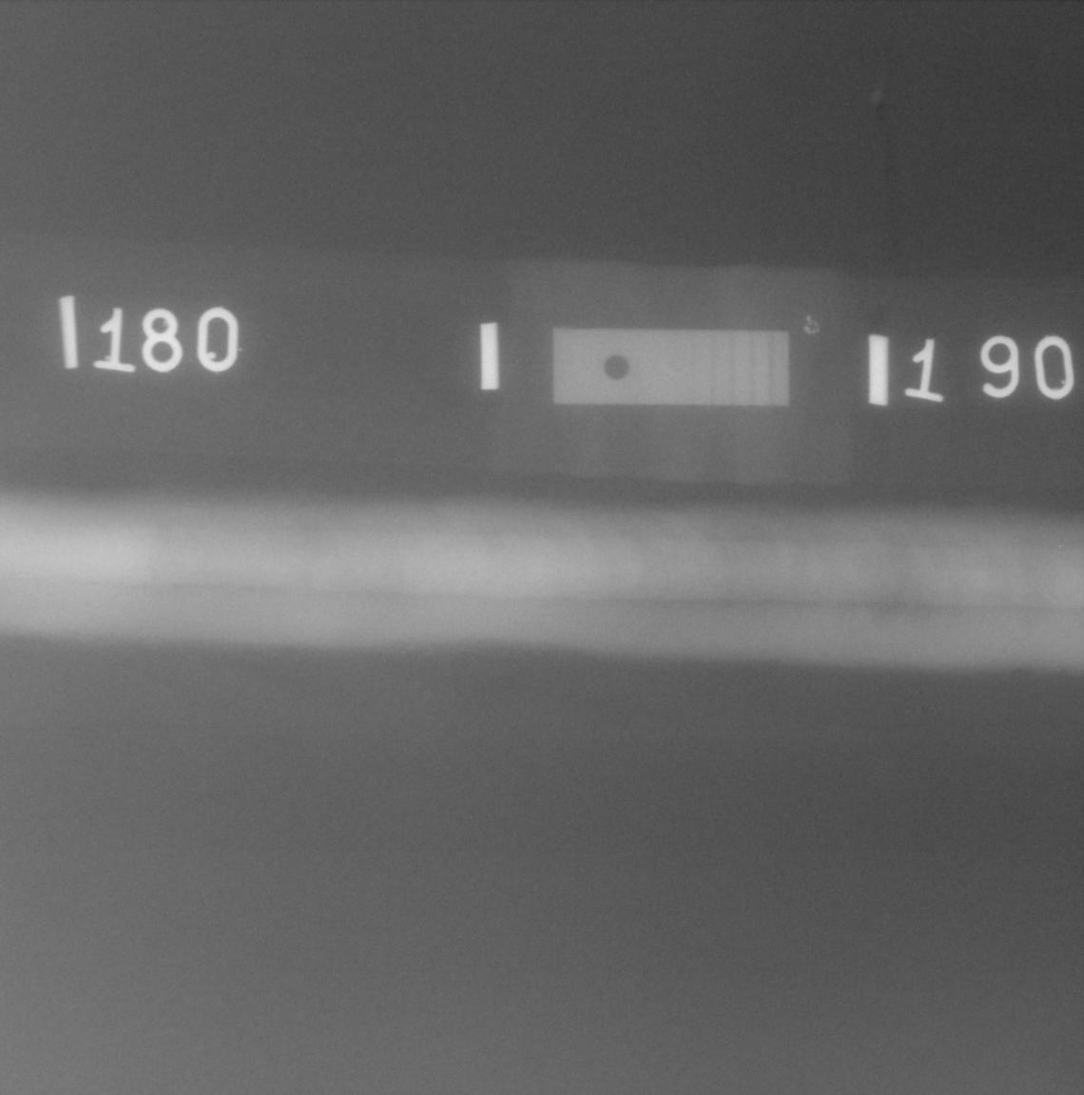Reference Standard 1: (553, 327, 791, 407)
